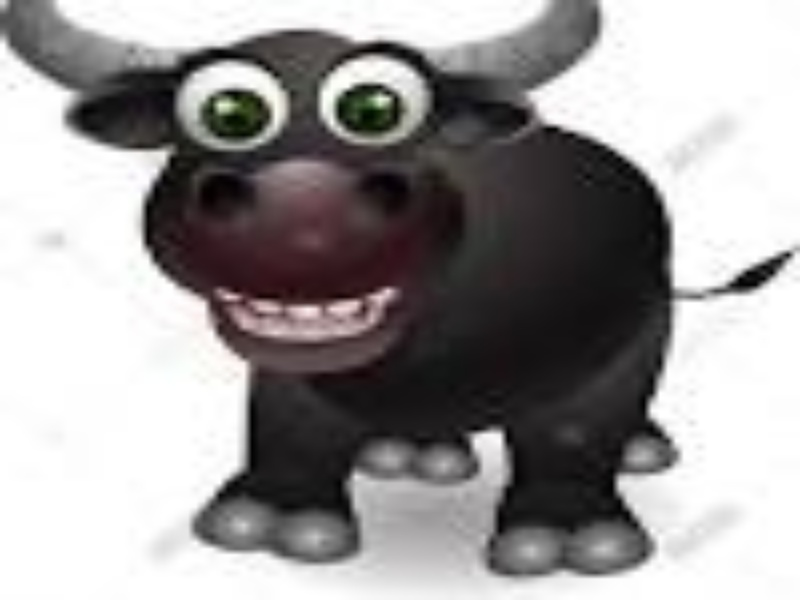buffalo: (17, 18, 764, 585)
